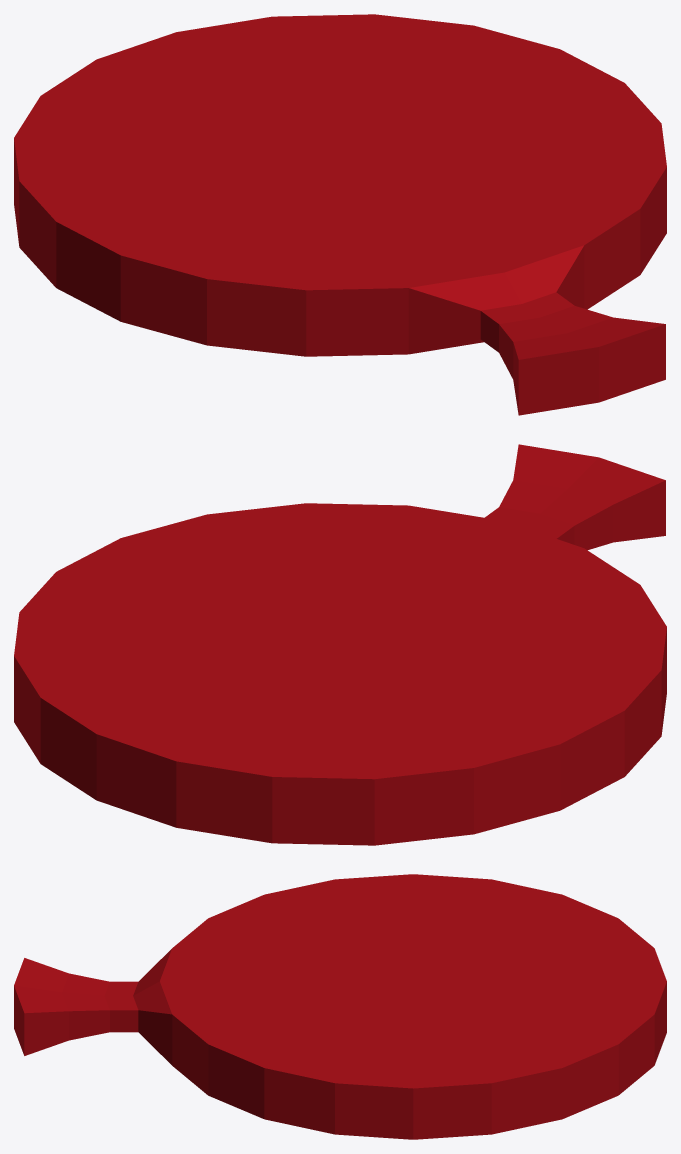
Rendered from FartPillow.fbx.
The picture shows the model from 3 angles, top to bottom: view 1: azimuth 30°, elevation 25°; view 2: azimuth 150°, elevation 25°; view 3: azimuth 270°, elevation 25°; orthographic projection. The views are drawn at different scales.
Parts seen in each view (by area): view 1: Cylinder; view 2: Cylinder; view 3: Cylinder.
Part boxes in pixels (x1,y1,x2,y2): Cylinder: (14, 14, 666, 415); Cylinder: (14, 444, 666, 845); Cylinder: (14, 874, 666, 1139).
Bounding box in the file's own units: 18.18 × 2.03 × 23.4.
